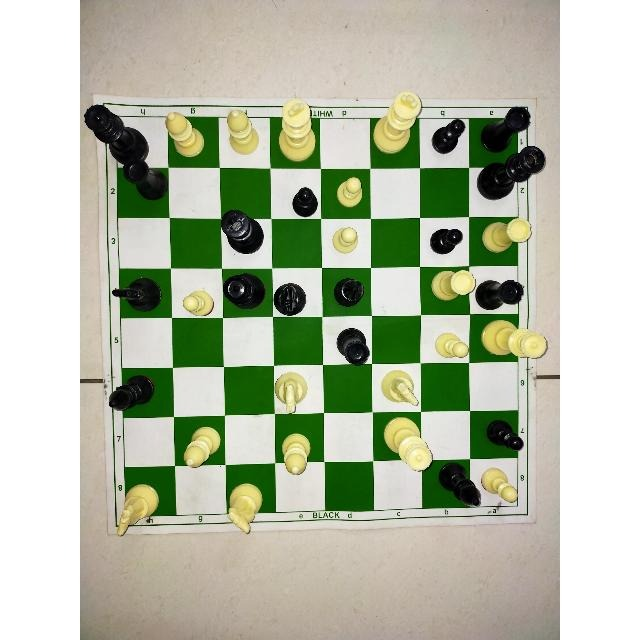black-bishop: (103, 369, 164, 424), (435, 462, 487, 510), (124, 370, 173, 414), (428, 468, 476, 504), (328, 270, 368, 309)
black-king: (472, 143, 548, 210), (106, 268, 166, 316), (219, 205, 270, 261), (222, 220, 267, 267)
black-knight: (118, 268, 170, 313), (278, 271, 320, 317), (272, 272, 309, 319)
black-pawn: (468, 413, 515, 456), (418, 222, 466, 264), (425, 122, 469, 164), (274, 177, 318, 216)
black-queen: (80, 94, 158, 166), (112, 118, 168, 164), (473, 270, 525, 313), (225, 269, 273, 313), (470, 171, 516, 216)
black-rook: (476, 99, 536, 157), (328, 320, 376, 368), (119, 170, 169, 213), (324, 322, 374, 364), (228, 272, 272, 314), (480, 273, 522, 315), (482, 120, 517, 148)
white-bishop: (161, 107, 217, 160), (176, 417, 224, 474), (221, 104, 265, 163), (179, 420, 227, 468), (277, 422, 315, 482), (172, 119, 217, 167), (278, 418, 323, 462), (224, 121, 266, 165)
white-king: (366, 88, 424, 161), (271, 90, 323, 166), (274, 122, 322, 170), (374, 123, 416, 165)
white-knight: (110, 474, 170, 542), (220, 474, 264, 546), (128, 466, 176, 516), (270, 369, 315, 419), (376, 368, 423, 412), (277, 369, 319, 416), (230, 474, 274, 511)
white-pawn: (329, 173, 369, 217), (184, 272, 222, 318), (327, 226, 369, 263), (428, 327, 470, 363), (481, 463, 516, 503)
white-queen: (378, 414, 436, 478), (478, 318, 548, 366), (377, 414, 424, 463), (481, 322, 517, 362)
white-rook: (472, 215, 533, 263), (427, 267, 477, 309), (422, 272, 466, 318), (474, 222, 520, 263)
